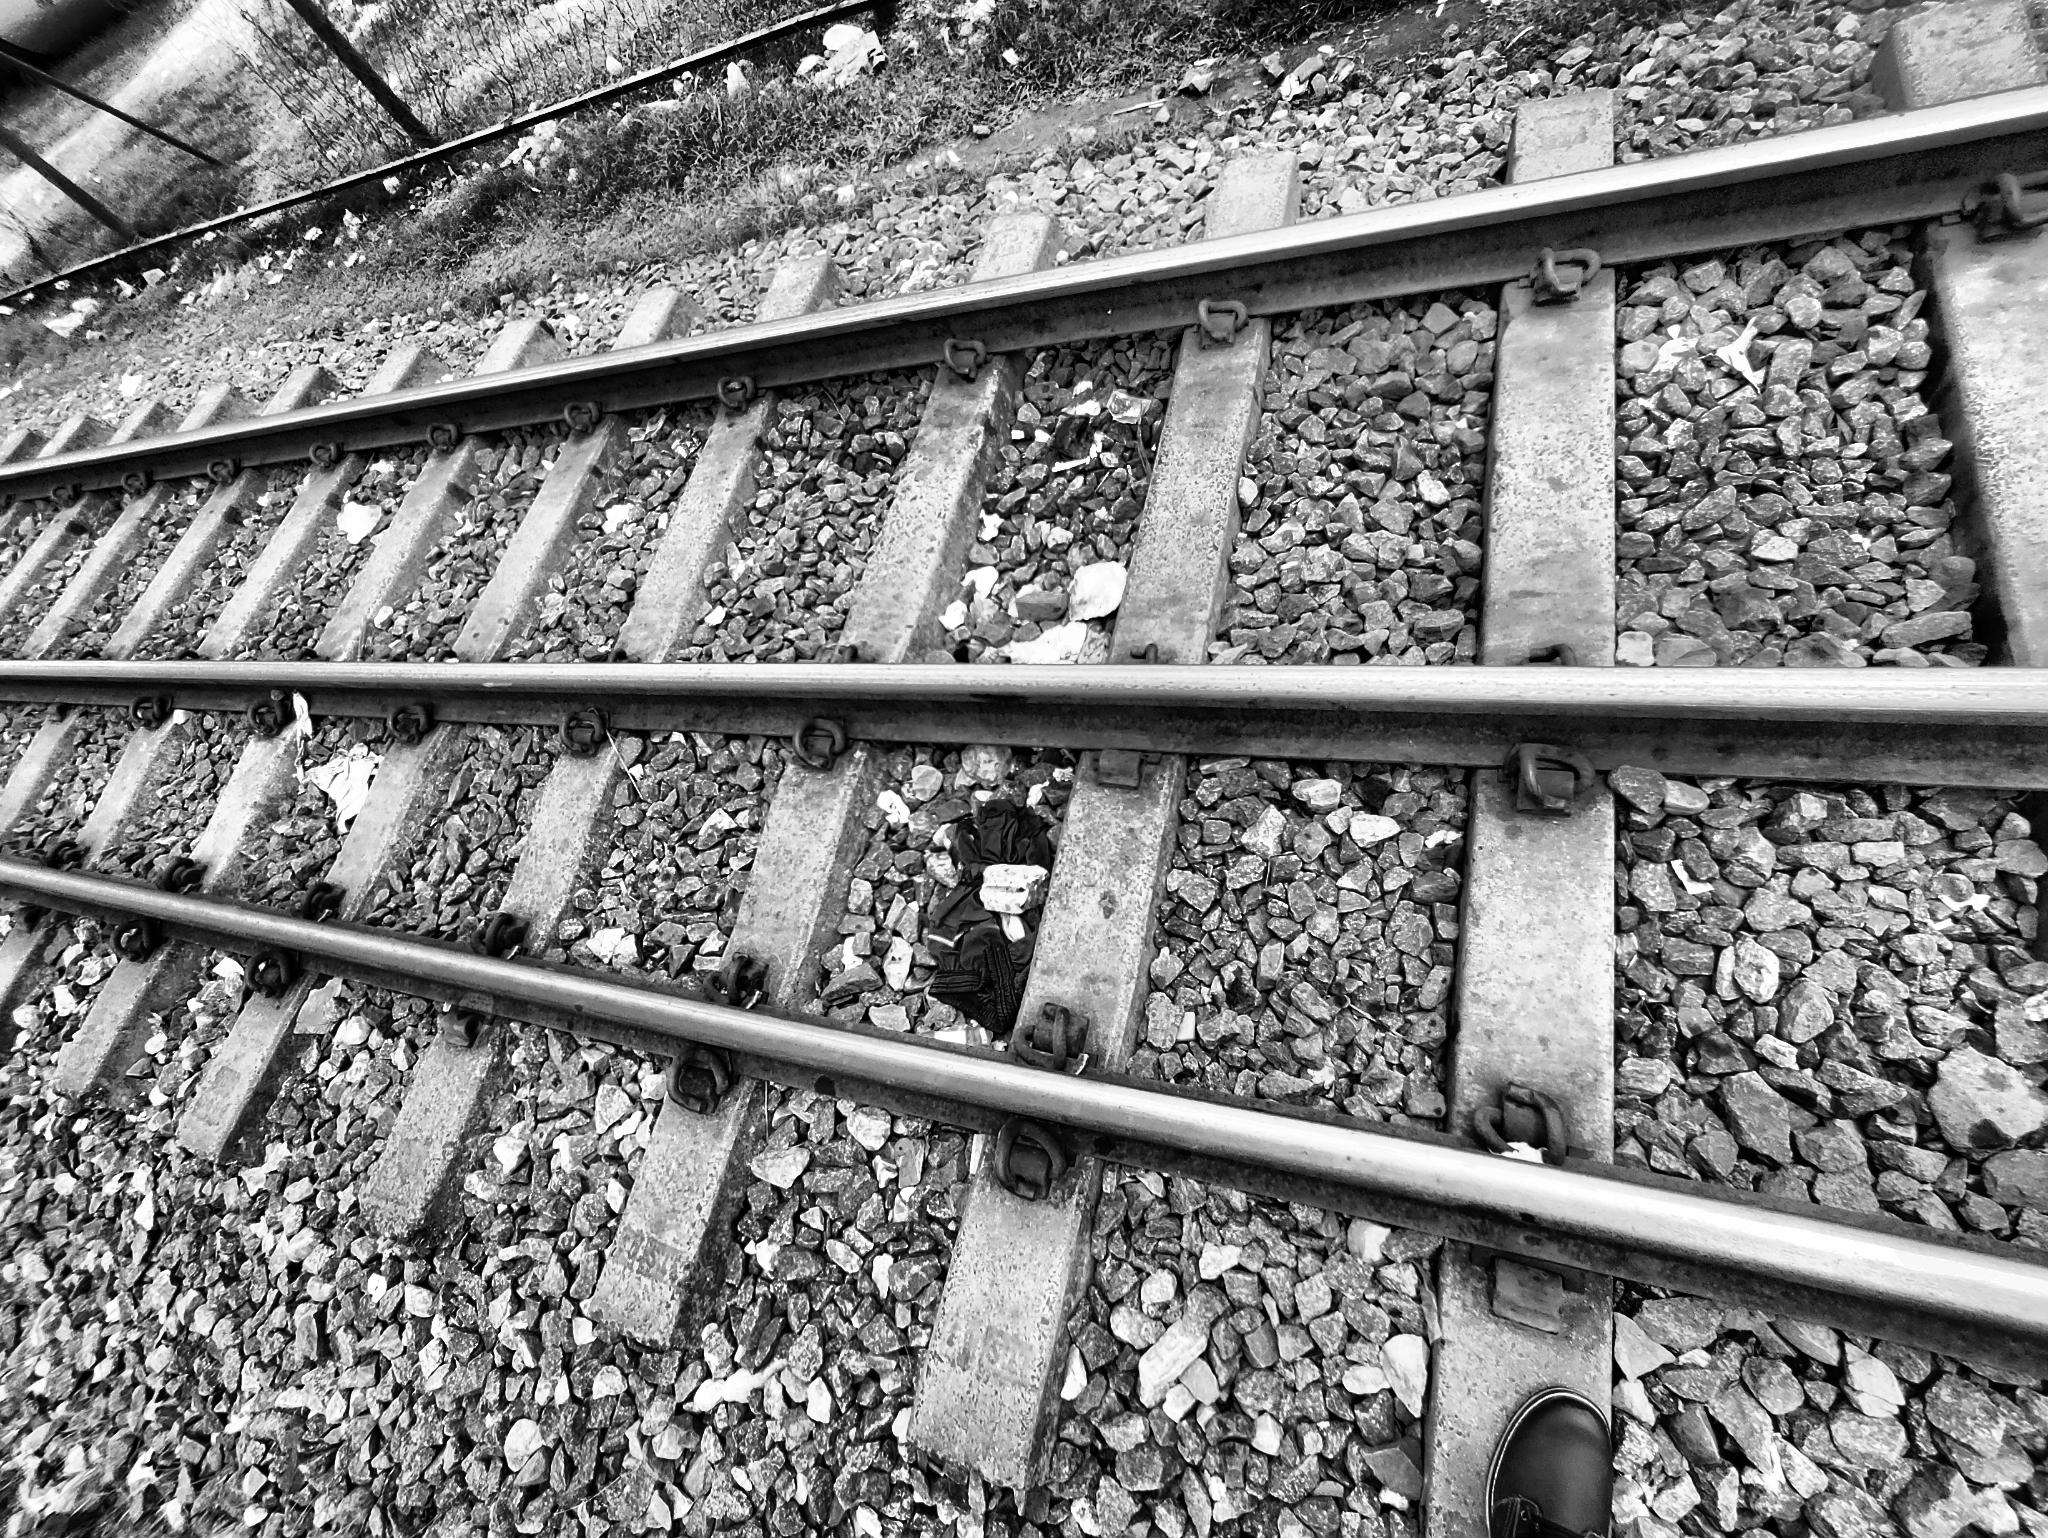Trash: (905, 739, 1065, 1055)
